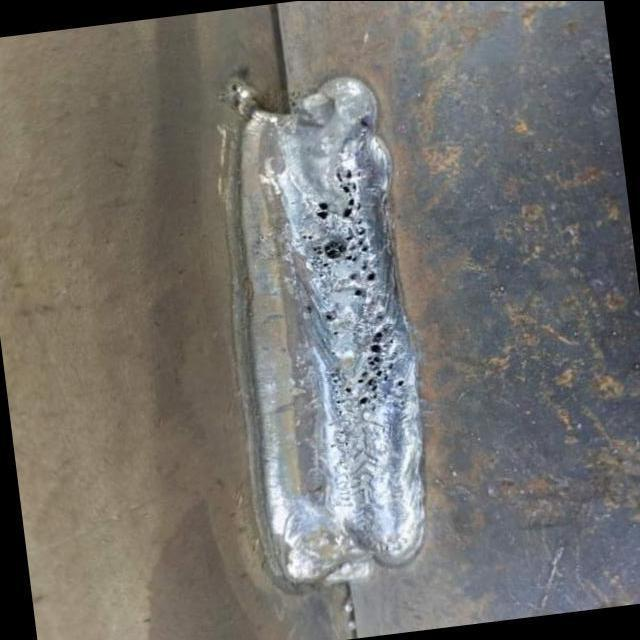defect: (301, 161, 381, 301), (338, 320, 408, 412), (320, 308, 342, 329)
